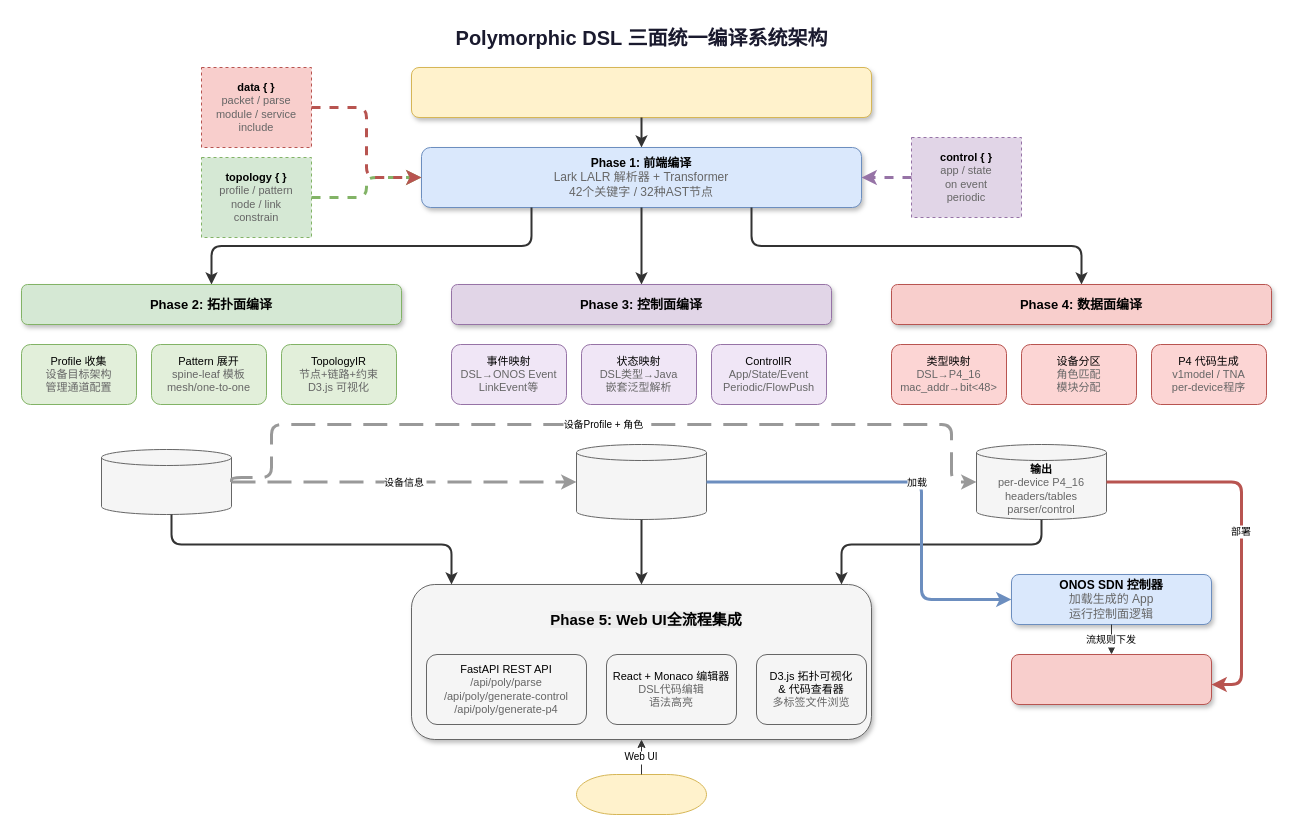
This 1295x832 diagram has some shape labels left out. Each missing label, with the centre of its shape:
"Polymorphic DSL 协议定义文件 polymorphic EXAMPLE extends Parent with Mixin { ... }" goes at [642,93].
"可编程数据平面设备 BMv2 (v1model) Tofino (TNA)" goes at [1112,681].
"输出 app.xml + pom.xml OSGi组件类 事件监听器" goes at [641,482].
"输出 D3.js 拓扑可视化 JSON 设备节点/链路/Profile" goes at [166,481].
"👤 网络工程师" goes at [641,794].
